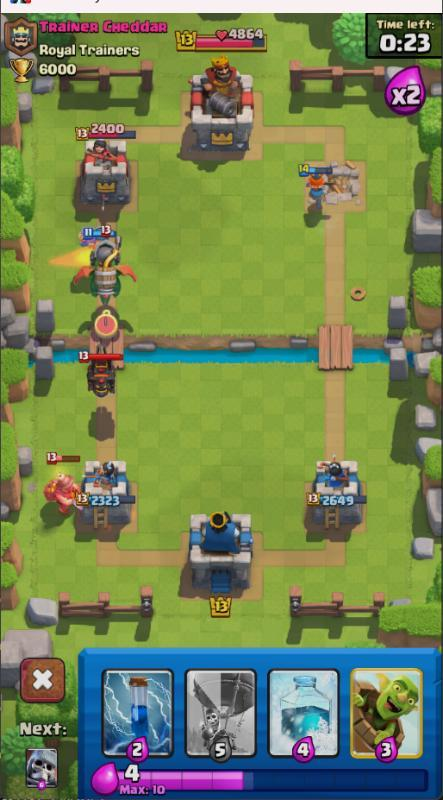enemy_inferno_dragon: (73, 218, 140, 338)
enemy_lava_hound: (72, 343, 129, 403)
enemy_miner: (36, 449, 87, 518)
player_valkyrie: (295, 163, 335, 210)
